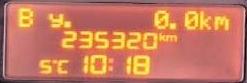-: (61, 20, 70, 27), (168, 21, 175, 28)
0: (89, 53, 106, 73), (152, 9, 168, 28), (183, 9, 198, 29), (140, 31, 157, 48)
1: (80, 54, 88, 72), (124, 54, 130, 74)
2: (60, 30, 76, 48), (125, 30, 140, 49)
3: (77, 30, 92, 47), (109, 31, 124, 48)
5: (93, 31, 108, 48), (38, 58, 52, 72)
8: (132, 54, 150, 74)
X: (15, 7, 33, 27), (198, 9, 212, 30), (212, 15, 230, 30), (47, 12, 62, 27), (55, 58, 69, 73), (165, 34, 176, 42), (157, 32, 165, 42), (106, 57, 112, 70)
